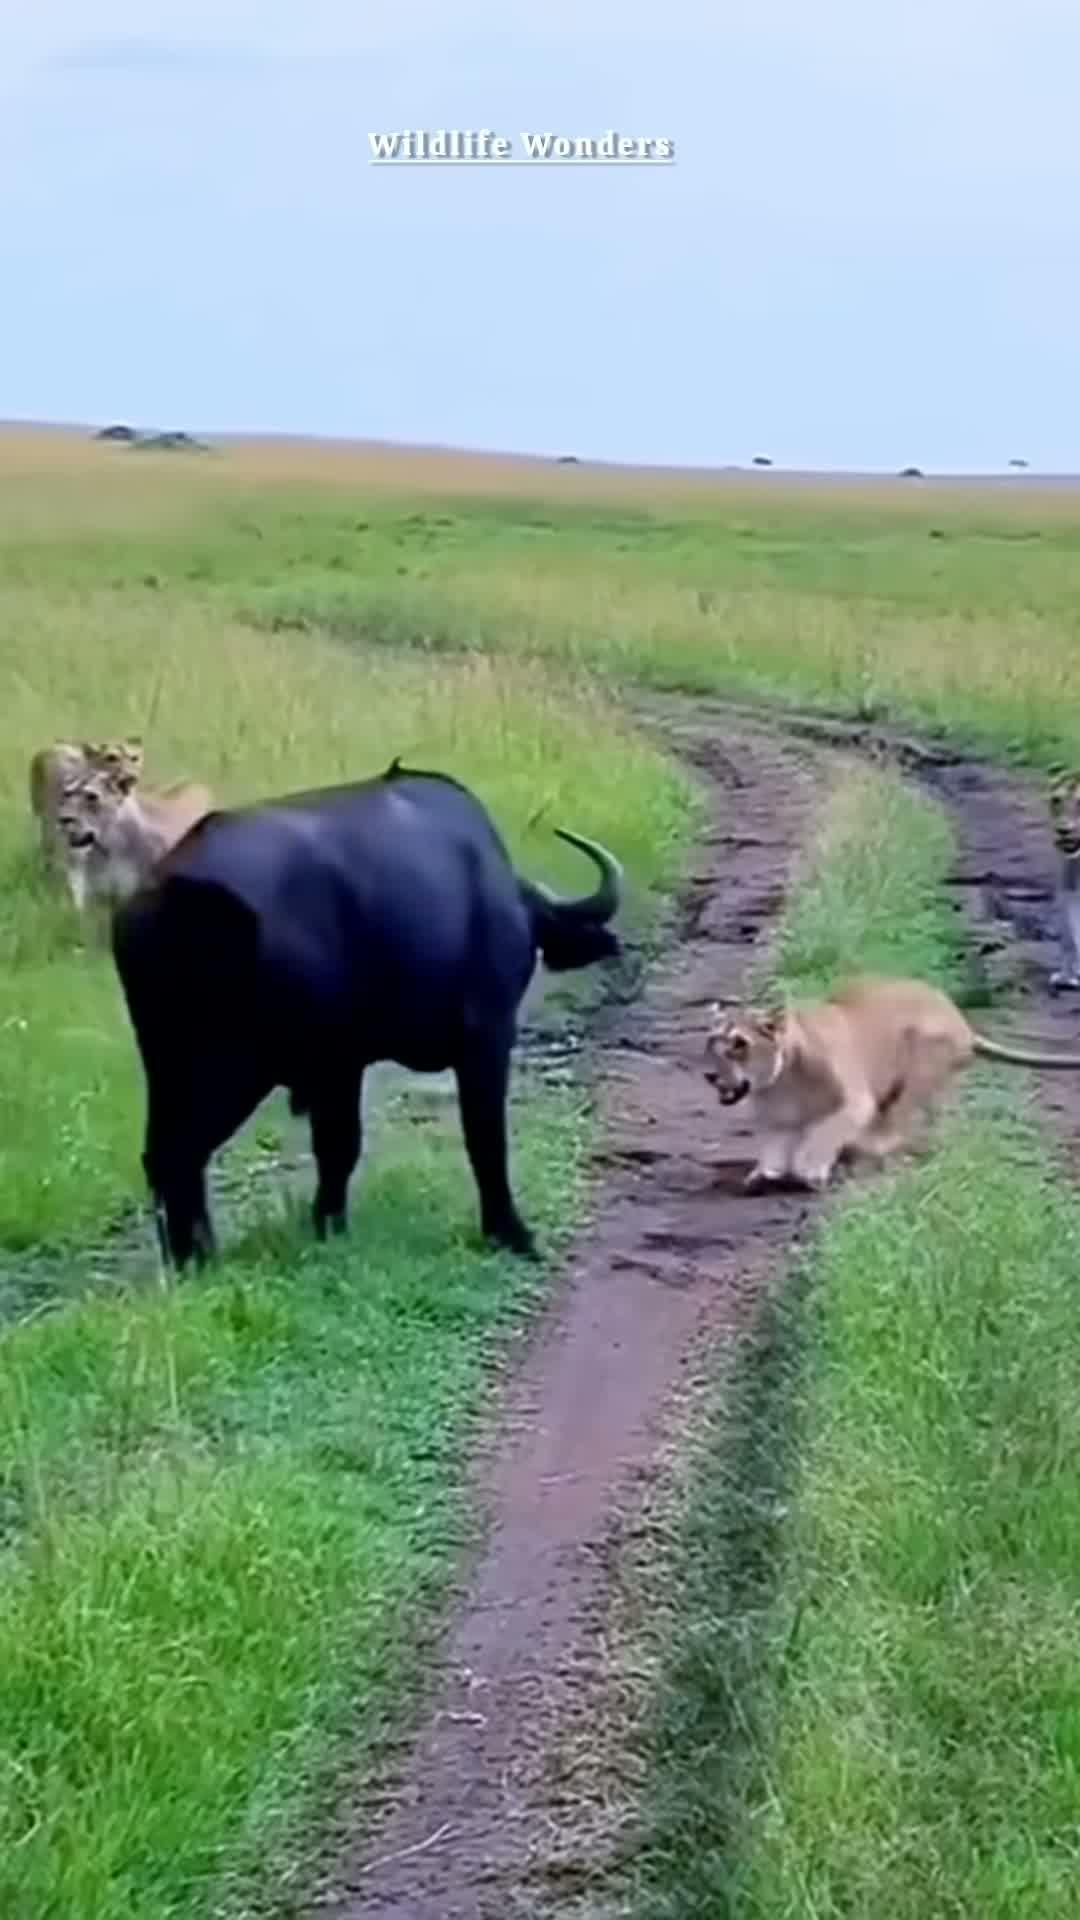Buffalo: (140, 737, 673, 1403)
lions: (680, 922, 1060, 1249)
